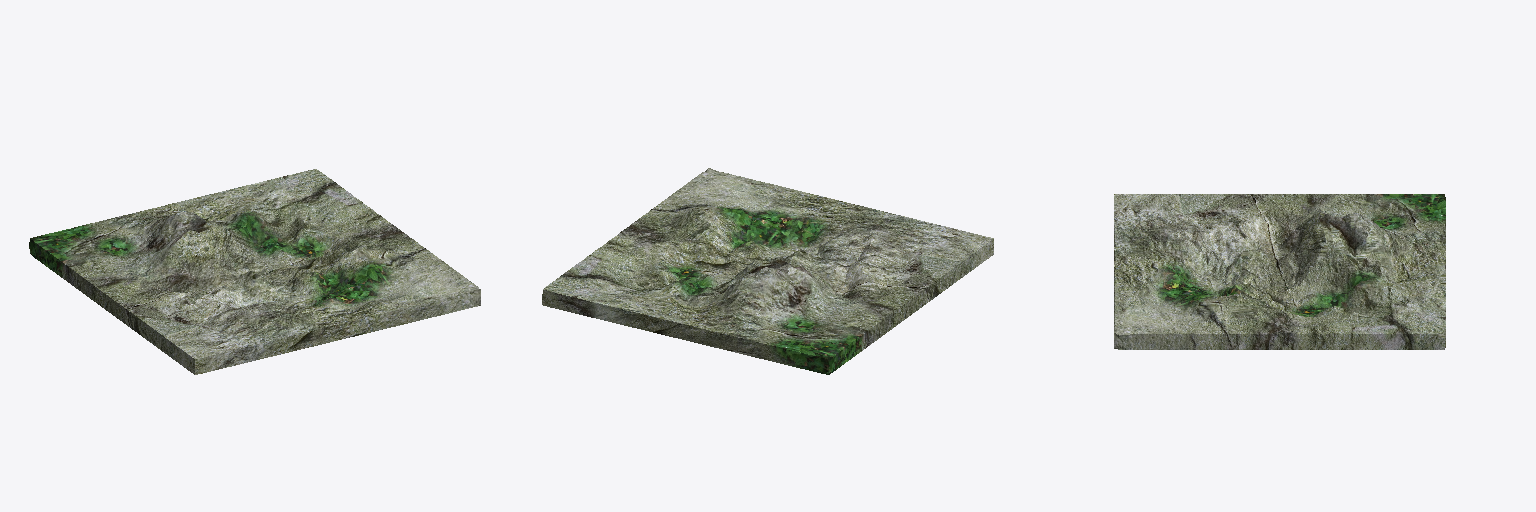
The picture shows the model from 3 angles: view 1: azimuth 30°, elevation 25°; view 2: azimuth 150°, elevation 25°; view 3: azimuth 270°, elevation 25°; orthographic projection.
Visible parts, largest first — view 1: Object_4_Object_0; view 2: Object_4_Object_0; view 3: Object_4_Object_0.
Boxes of the visible parts, x1,y1,x2,y2 form: Object_4_Object_0: [29, 169, 480, 374]; Object_4_Object_0: [542, 168, 993, 374]; Object_4_Object_0: [1114, 194, 1445, 349].
Size of the model in its own units: 2 by 0.3159 by 2.
1 materials, 1 textured.